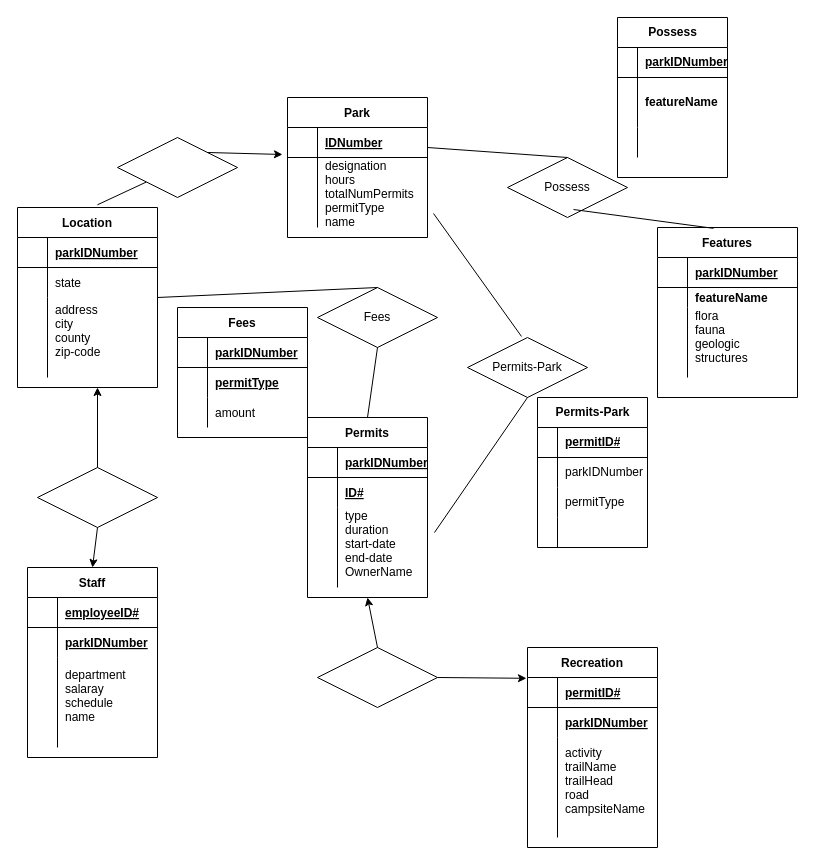
This 815x865 diagram has some shape labels left out. Here are the shapes that lost their labels. From the top down, the centre of each, then its label:
point 177,167: Located At
point 97,497: Place of Work
point 377,677: Allows
